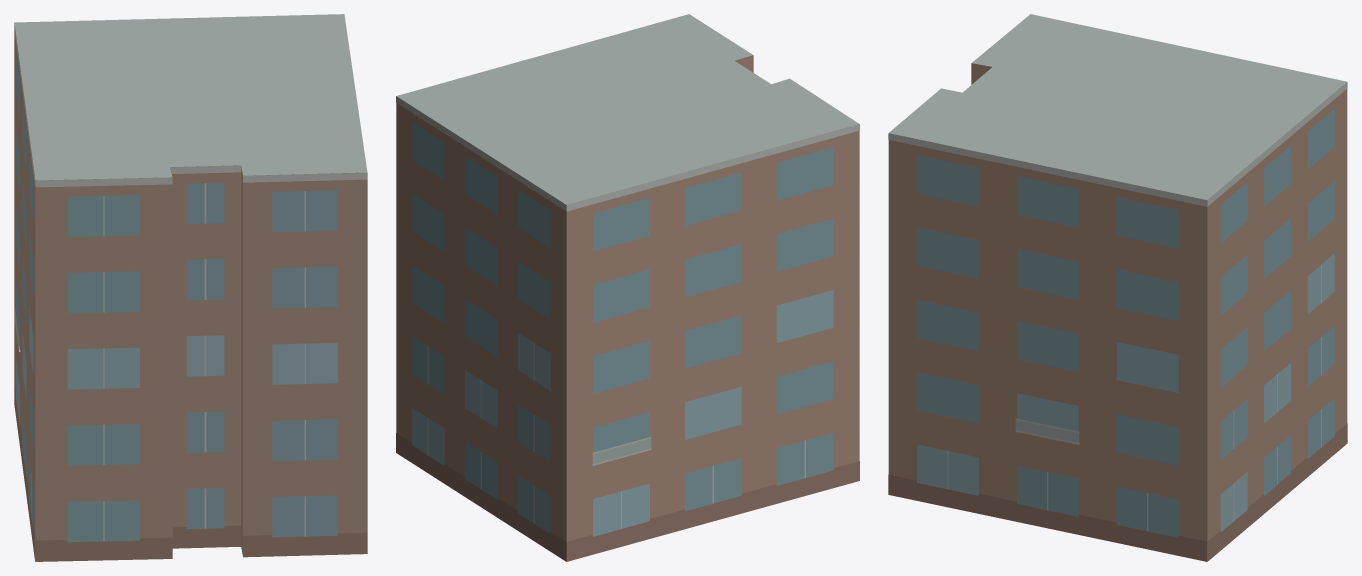
The model's file is survey-upis-32656545.glb.
3 renders of one model, left to right at view 1: azimuth 30°, elevation 25°; view 2: azimuth 150°, elevation 25°; view 3: azimuth 270°, elevation 25°, orthographic. The views are drawn at different scales.
Visible parts, largest first — view 1: survey-upis-32656545.tmp; view 2: survey-upis-32656545.tmp; view 3: survey-upis-32656545.tmp.
Part boxes in pixels (left/top/right/bottom): survey-upis-32656545.tmp: left=14, top=14, right=367, bottom=561; survey-upis-32656545.tmp: left=396, top=14, right=859, bottom=561; survey-upis-32656545.tmp: left=888, top=14, right=1347, bottom=561.
Bounding box in the file's own units: 14.58 × 13.2 × 15.19.
